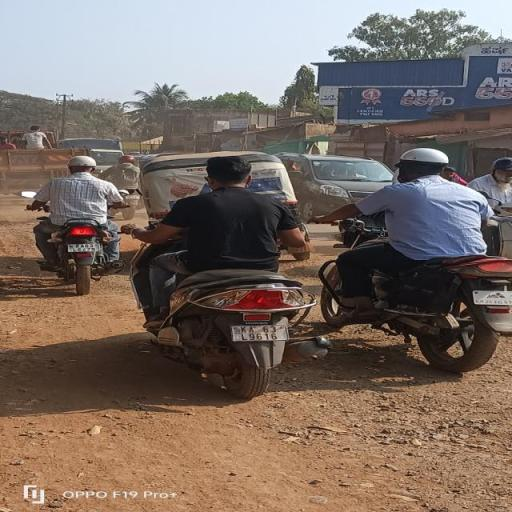bike: (118, 152, 336, 406)
numberplate: (232, 322, 291, 342)
withouthelmet: (208, 157, 252, 185)
